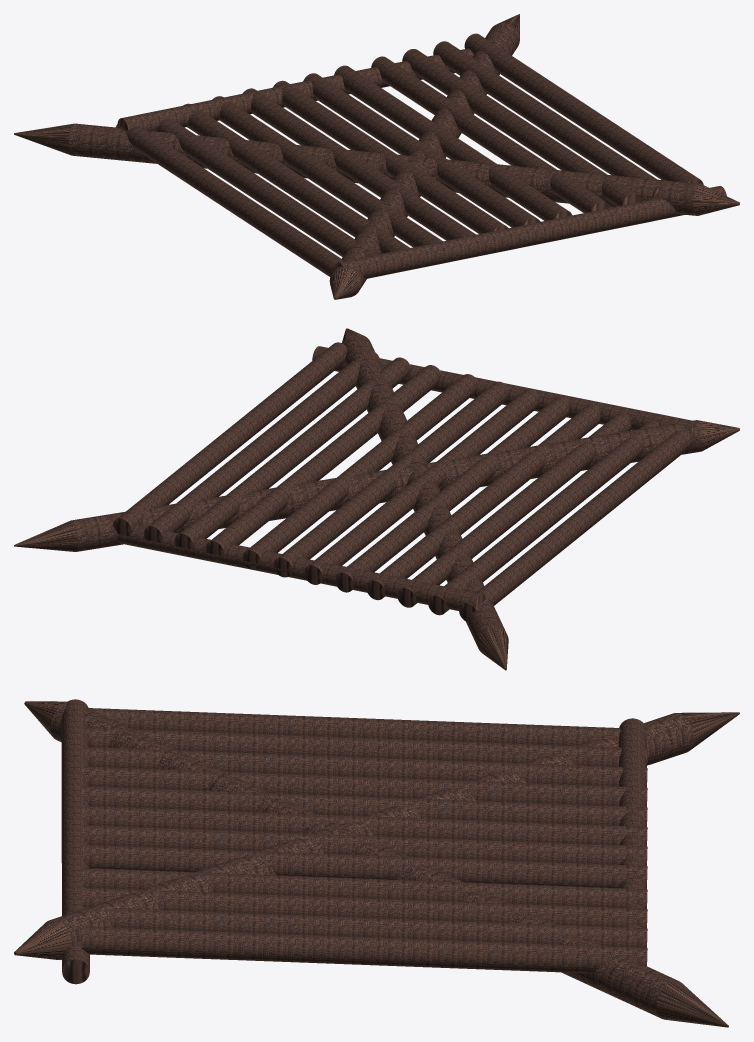
File: Platform.obj
3 views of the same model, one above another, from view 1: azimuth 30°, elevation 25°; view 2: azimuth 150°, elevation 25°; view 3: azimuth 270°, elevation 25° (orthographic). The views are drawn at different scales.
Visible parts, largest first — view 1: Cylinder.015; view 2: Cylinder.015; view 3: Cylinder.015.
Boxes of the visible parts, x1,y1,x2,y2 form: Cylinder.015: [14, 14, 739, 299]; Cylinder.015: [14, 328, 739, 670]; Cylinder.015: [14, 699, 739, 1027].
Bounding box in the file's own units: 6.2 × 0.662 × 6.06.
1 material, 1 textured.
